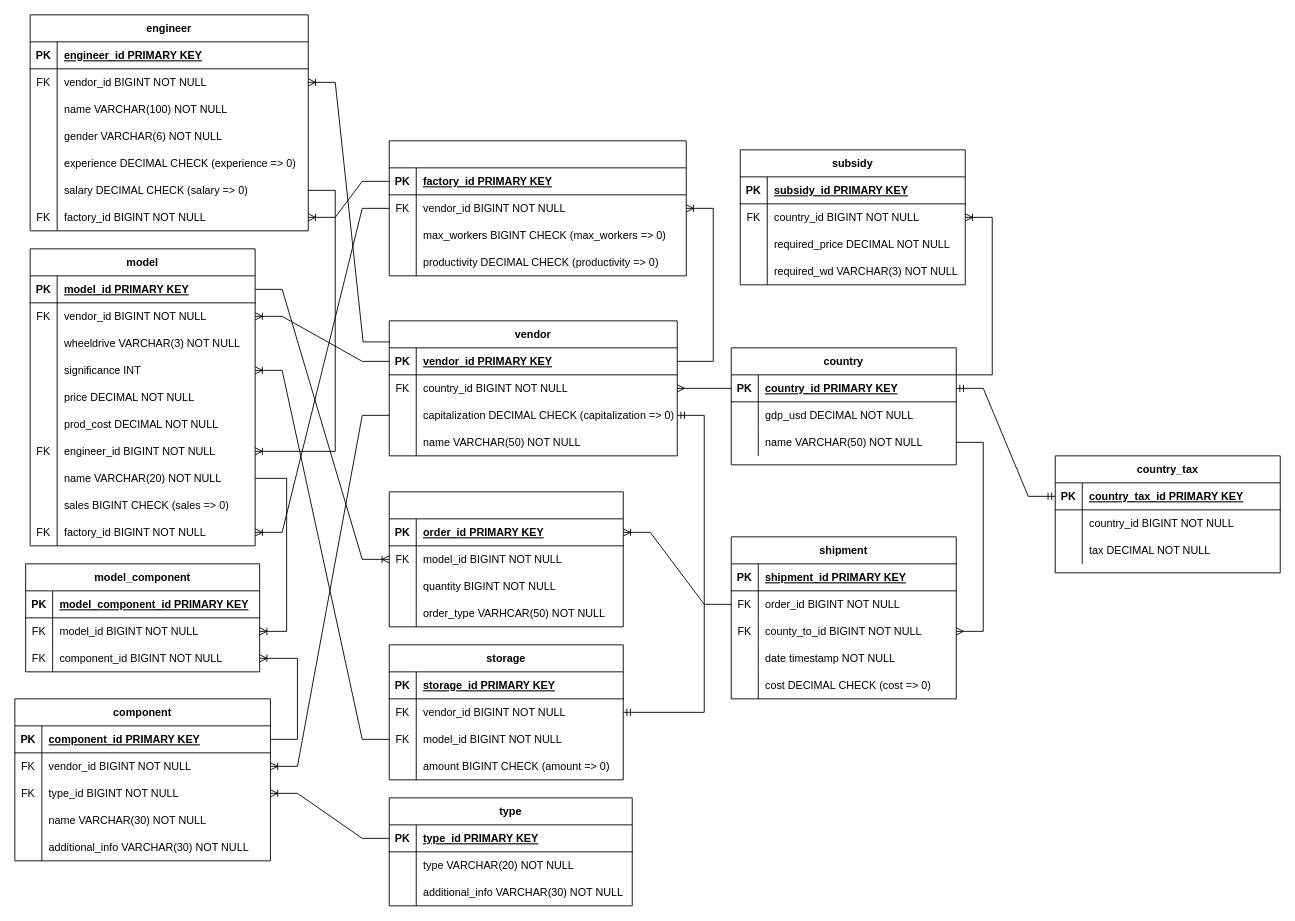
The diagram is 1295 pixels wide and 921 high, and some of its shapes have lost their labels. The shapes that lost their labels are listed below. From the top down, each one's box as (x1, y1, x2, y2) in pixels, then its label:
(388, 140, 686, 276): factories
(388, 491, 623, 627): orders
